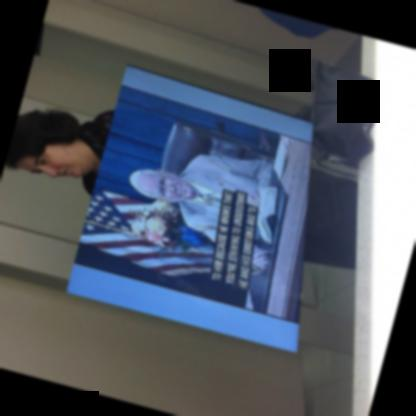handbag: (305, 54, 376, 181)
